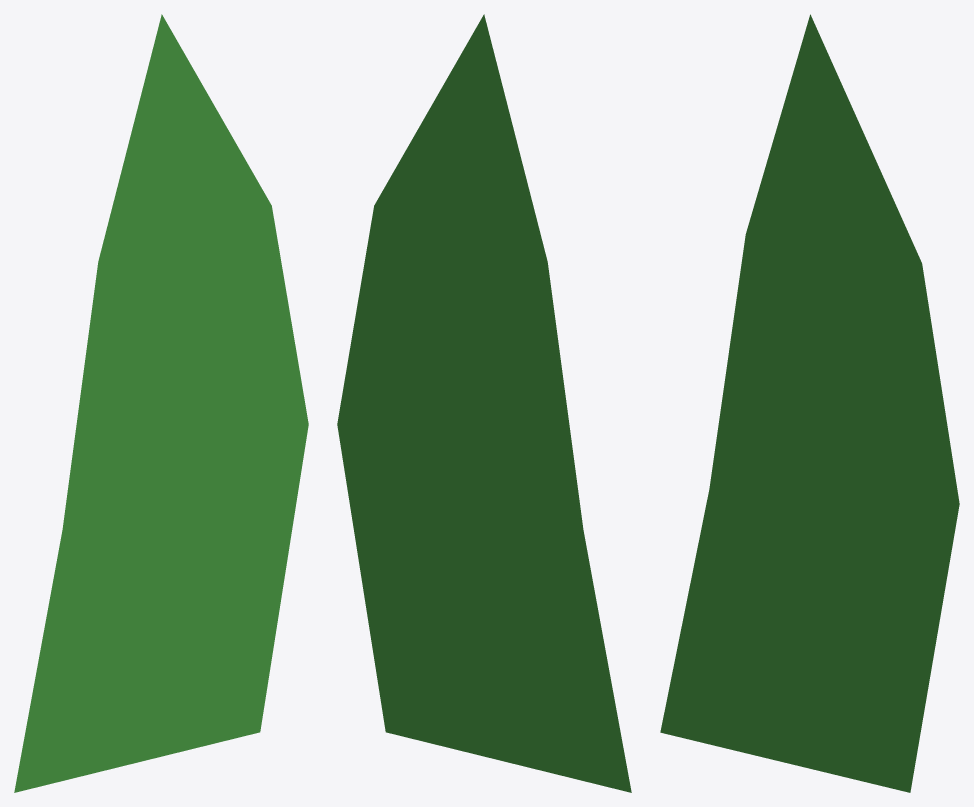
File: grass_03.FBX
3 views of the same model, side by side, from view 1: azimuth 30°, elevation 25°; view 2: azimuth 150°, elevation 25°; view 3: azimuth 330°, elevation 25° (orthographic).
Visible parts, largest first — view 1: grass_03; view 2: grass_03; view 3: grass_03.
Part boxes in pixels (x1=…): grass_03: x1=14, y1=14, x2=308, y2=792; grass_03: x1=337, y1=14, x2=631, y2=792; grass_03: x1=660, y1=14, x2=959, y2=792.
Size of the model in its own units: 39.64 by 0.00269 by 95.55.
Materials: 1 (1 with a texture image).
